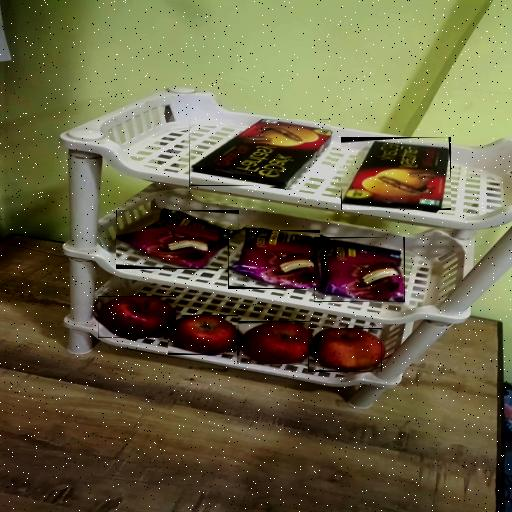Apple: (98, 296, 176, 338), (308, 328, 382, 372), (236, 321, 310, 364), (168, 315, 238, 355)
Choco Fills: (188, 120, 330, 188), (341, 137, 451, 210)
Choco Pie: (116, 210, 239, 269), (314, 237, 405, 302), (228, 230, 320, 289)
